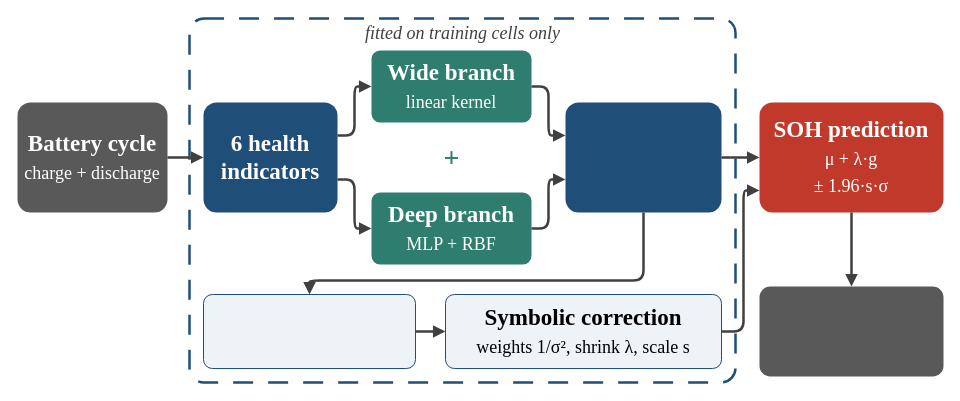
Image size: 960x401. Some labels were removed from this diagram. Each missing label, with the box of its shape:
Cross-fitted residuals: (202, 294, 416, 368)
Edge export NumPy + C 0.06 ms: (759, 286, 943, 376)
Sparse GP M = 64, ELBO → μ, σ: (565, 102, 721, 212)
